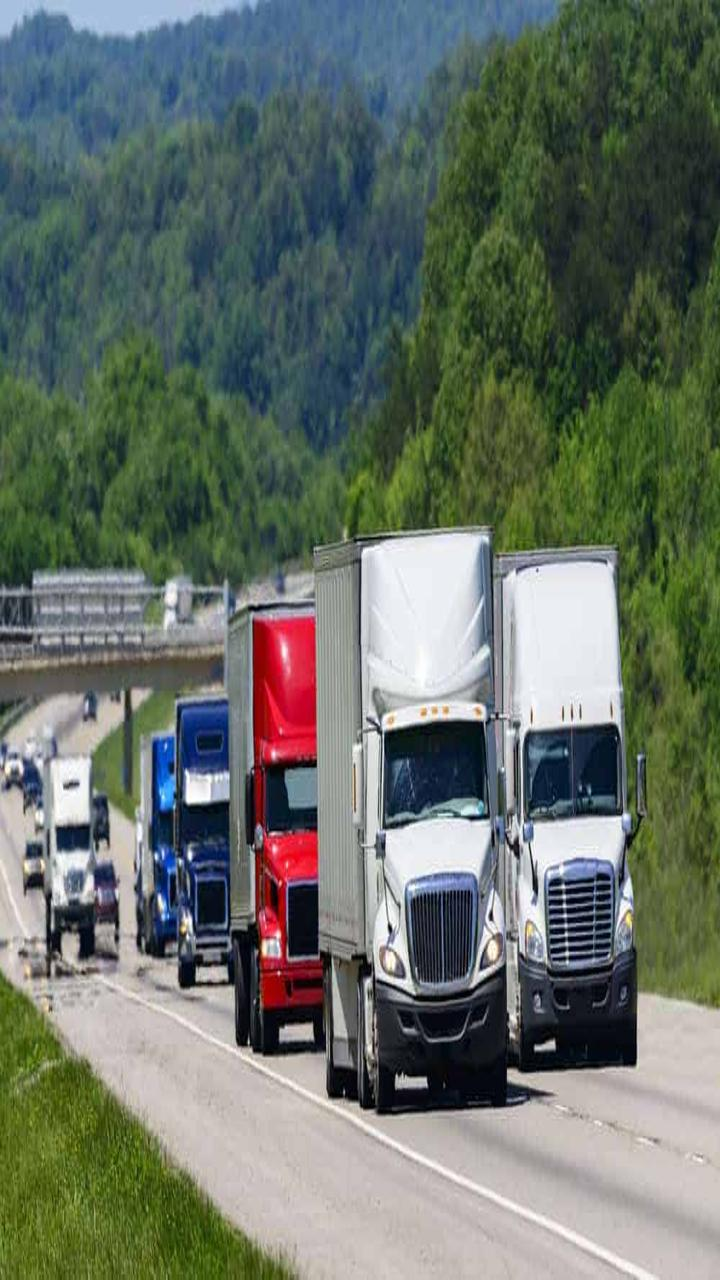vehicle: (307, 531, 531, 1116), (447, 529, 671, 1114), (210, 541, 399, 1053), (178, 702, 292, 985), (30, 716, 144, 999)
